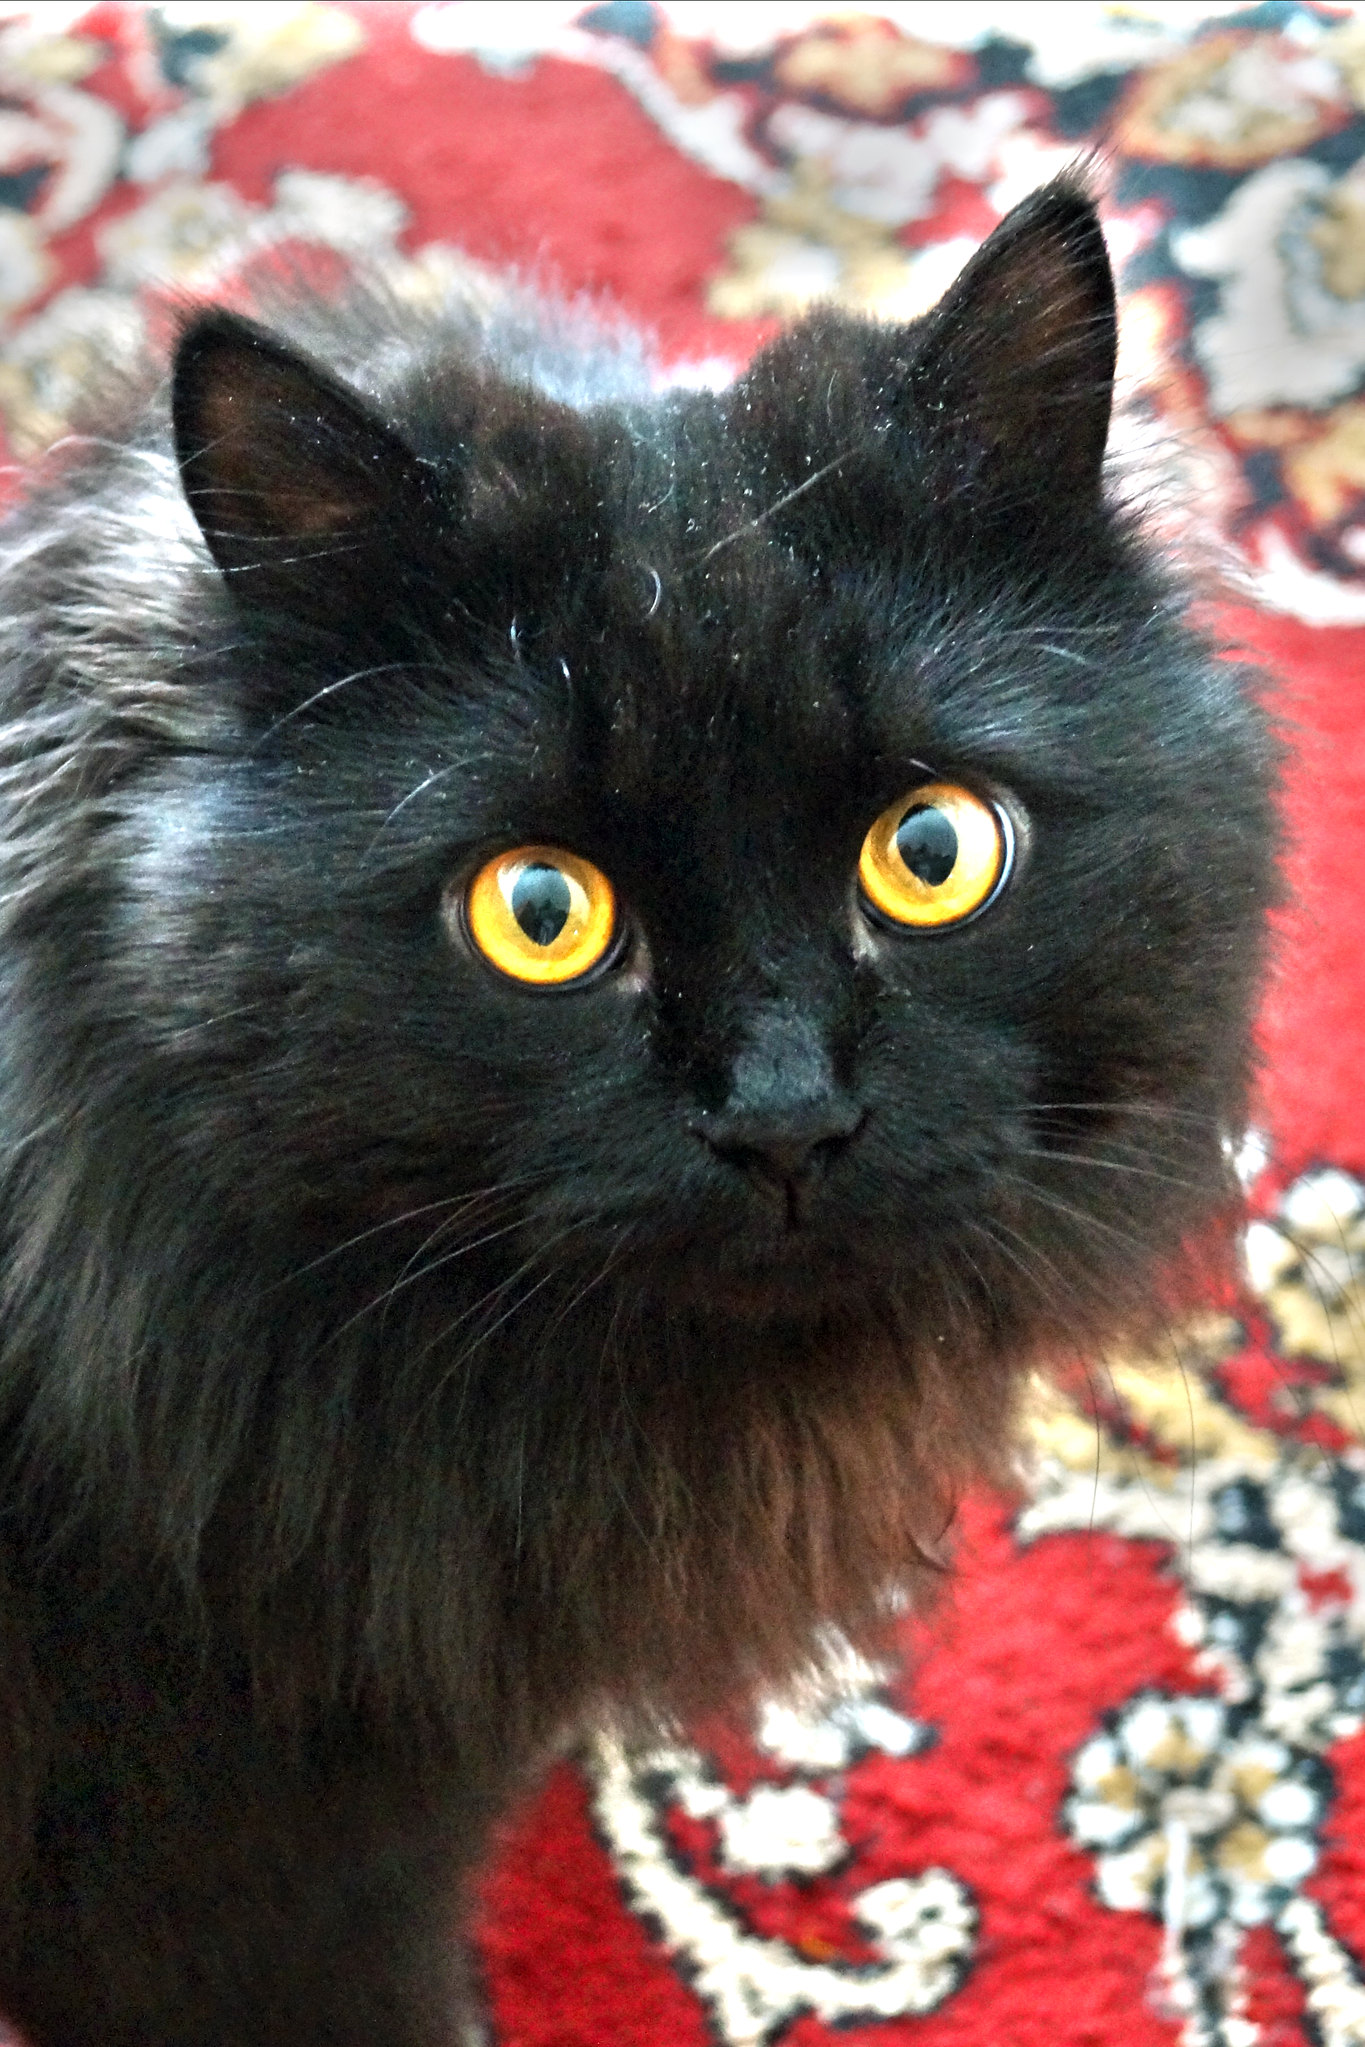cat: (2, 148, 1193, 1995)
